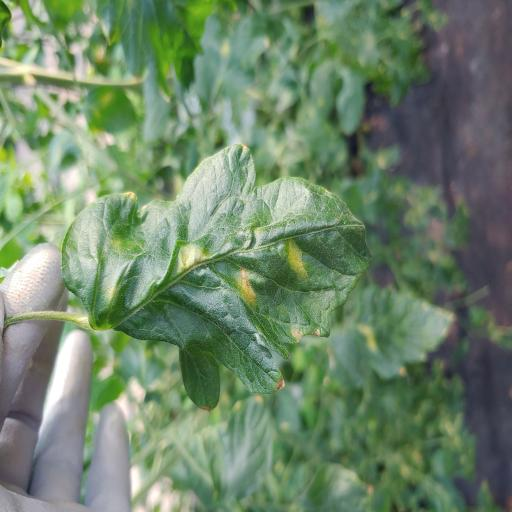disease_tomato: (61, 138, 370, 413)
